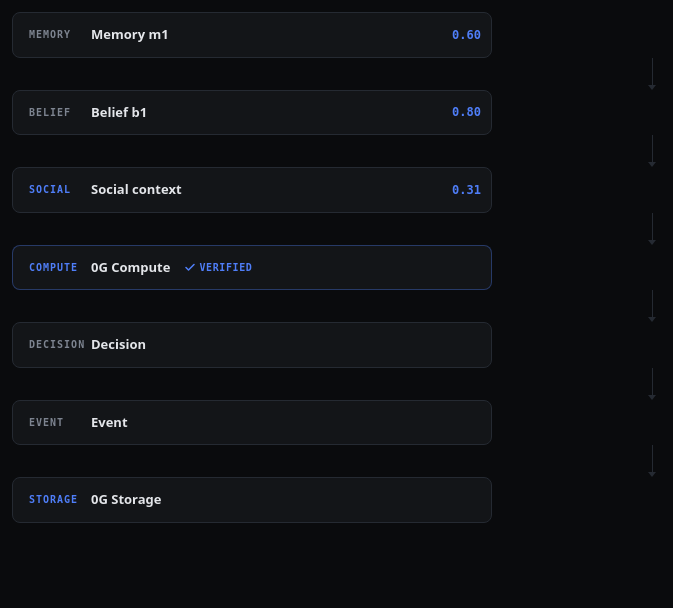
Test: CausalChain › reveals detail on click
The width and height of the screenshot is (673, 608).
expect the text "Marcus is trustworthy" is not shown: met
Click the text "Belief b1" at (119, 112), box top-left (91, 102), bottom-right (147, 122)
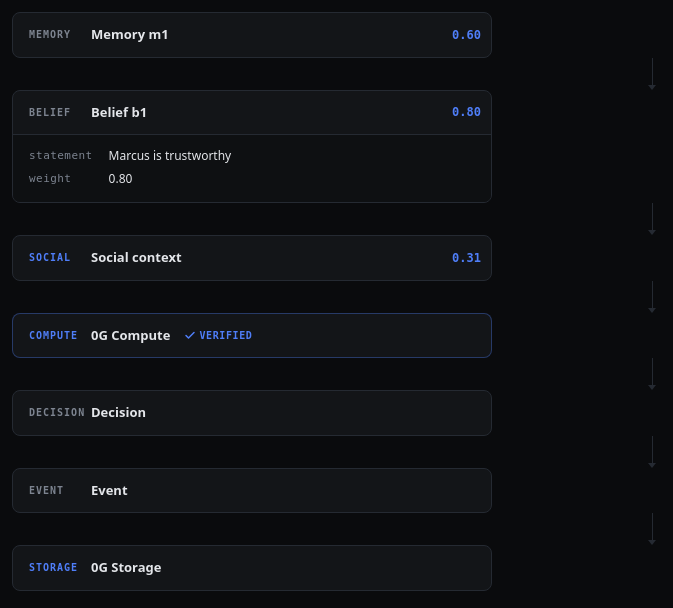
expect the text "Marcus is trustworthy" is shown: met, box top-left (109, 147), bottom-right (231, 164)
